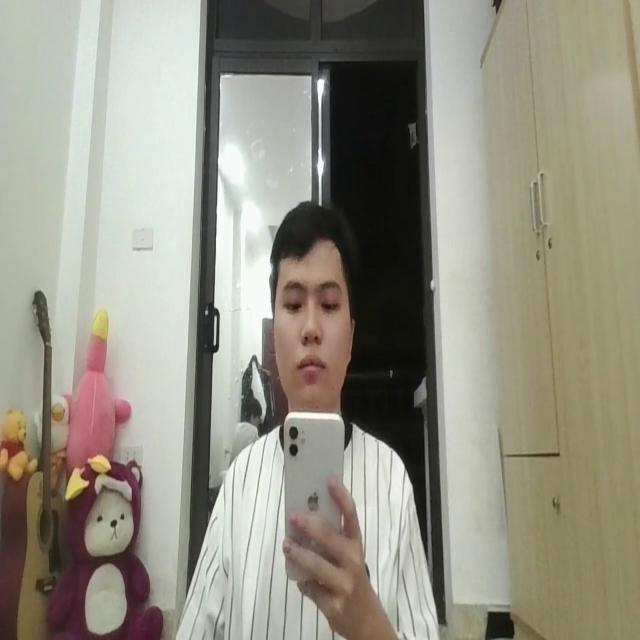phone: (282, 409, 345, 583)
student: (179, 188, 435, 640)
